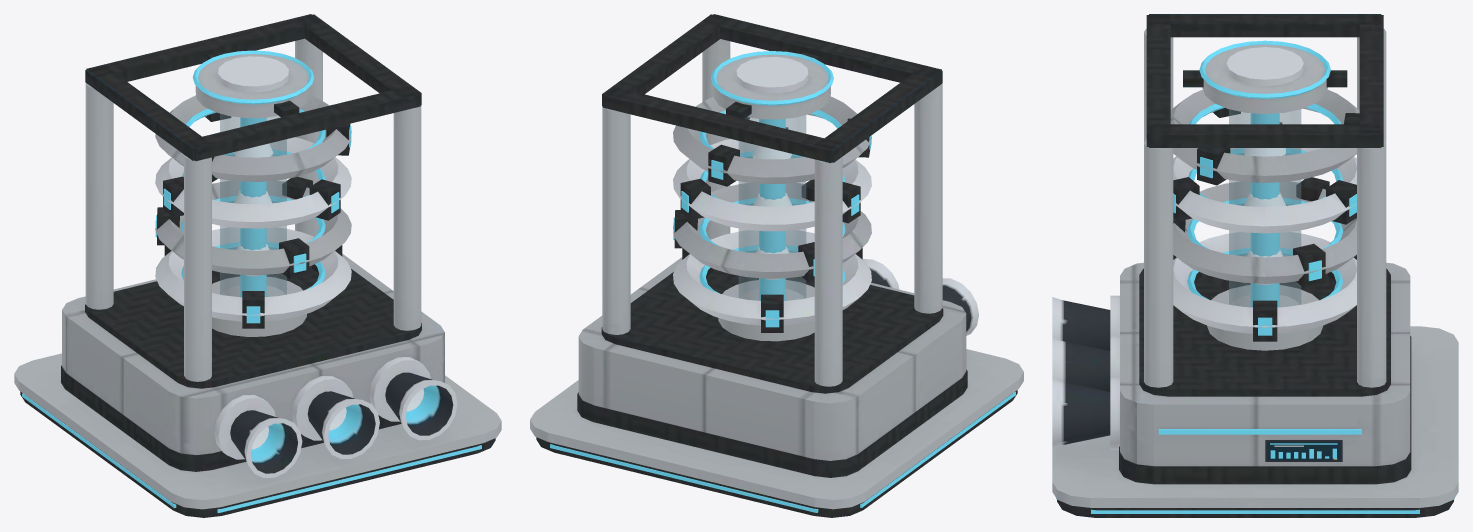
Rendered from enterprise_warp_drive.glb.
3 views of the same model, side by side, from view 1: azimuth 30°, elevation 25°; view 2: azimuth 150°, elevation 25°; view 3: azimuth 270°, elevation 25° (orthographic). The views are drawn at different scales.
Parts seen in each view (by area): view 1: te_enterprise_warp_drive, move_rotor; view 2: te_enterprise_warp_drive, move_rotor; view 3: te_enterprise_warp_drive, move_rotor.
Boxes of the visible parts, <box> form: te_enterprise_warp_drive: <box>14,14,501,517</box>; move_rotor: <box>155,95,351,328</box>; te_enterprise_warp_drive: <box>530,14,1023,517</box>; move_rotor: <box>673,96,871,332</box>; te_enterprise_warp_drive: <box>1052,14,1458,517</box>; move_rotor: <box>1170,89,1359,341</box>.
Bounding box in the file's own units: 0.84 × 0.845 × 0.84.
Materials: 2 (1 with a texture image).
